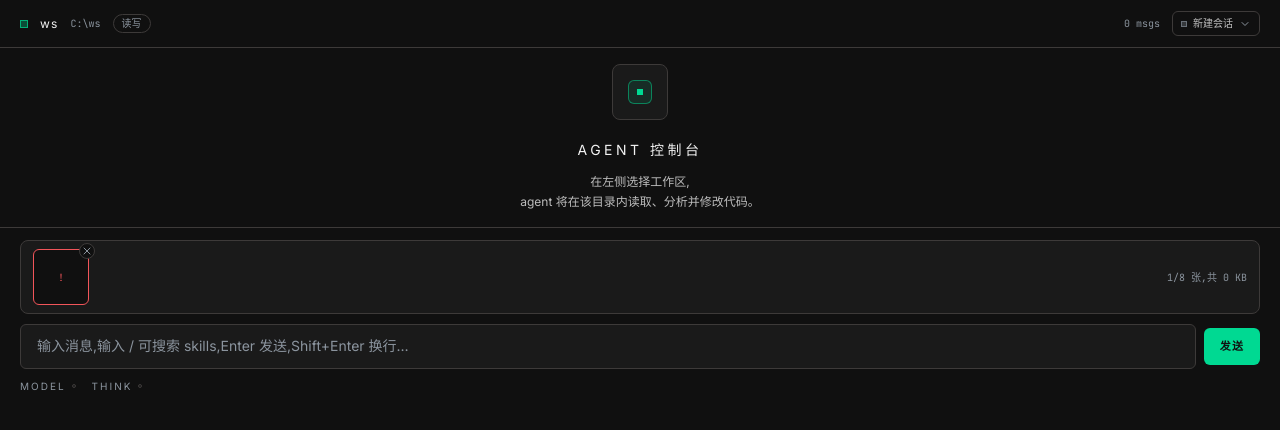
Scenario: ChatPane / 粘贴图片缩略图(compressorjs 压缩已 mock) › 压缩失败项阻止发送并提示,不触发上传(避免误导性 400)
This screenshot has width=1280, height=430.
Expected: the button named "删除图片" is shown, [79,243,95,259]
Click the button "发送".
click(1232, 346)  # box [1204,328,1260,365]
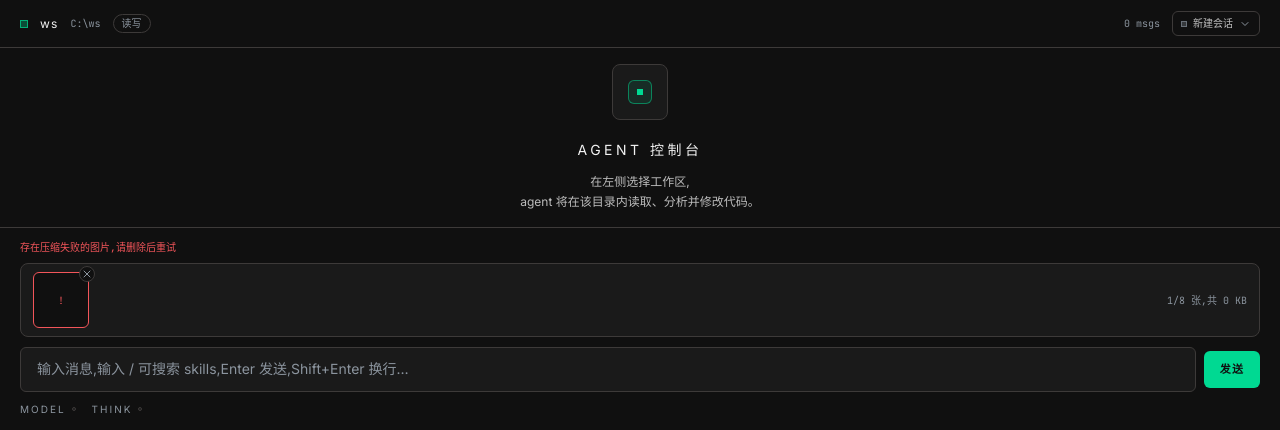
Now the text "存在压缩失败的图片,请删除后重试" is shown, box [20,241,176,254]
